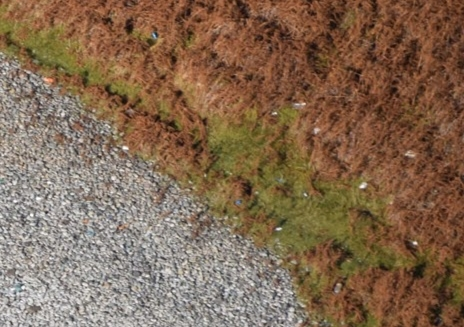scattered_barrel: (299, 171, 431, 300), (263, 92, 375, 235)
white_in_green: (29, 63, 64, 94), (137, 20, 170, 48)
